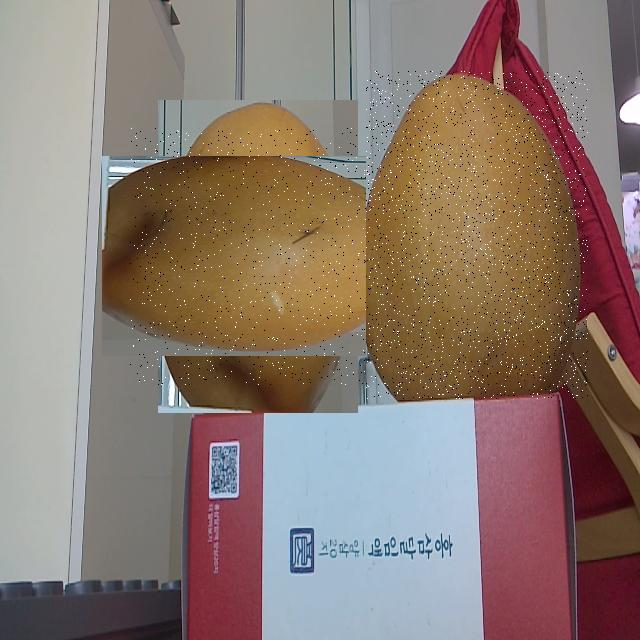pear: (366, 71, 588, 399), (130, 128, 386, 385)
